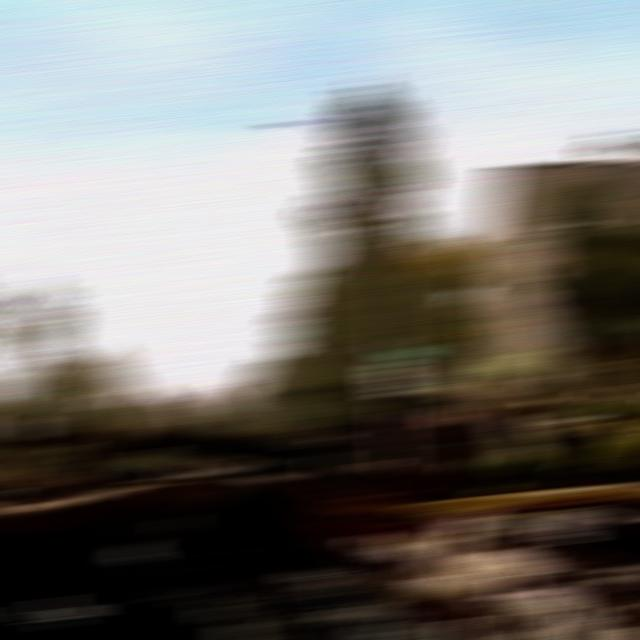speedLimit25: (372, 360, 414, 395)
